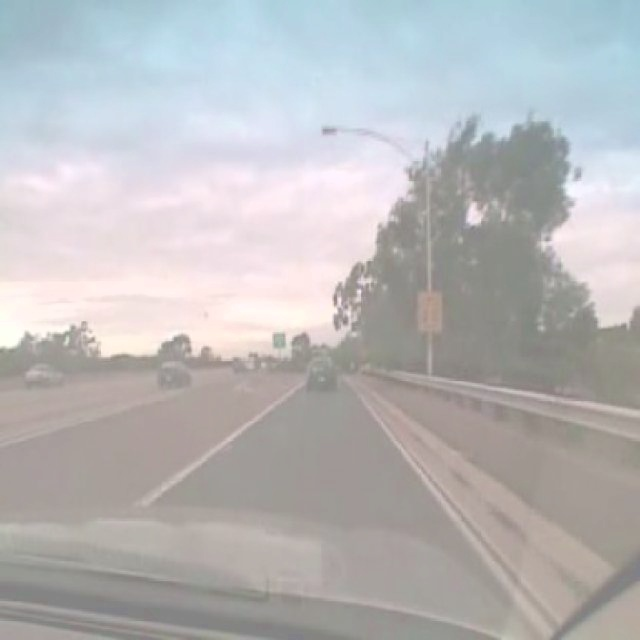rampSpeedAdvisoryUrdbl: (415, 290, 443, 334)
